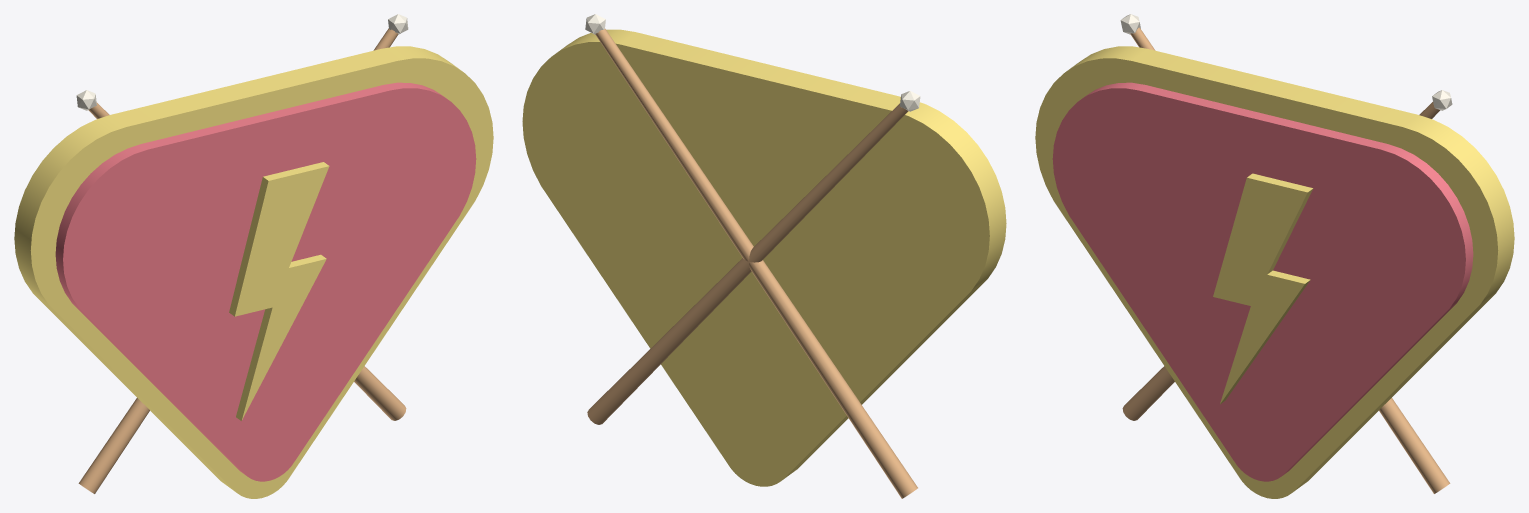
File: emblem.glb
3 renders of one model, left to right at view 1: azimuth 30°, elevation 25°; view 2: azimuth 150°, elevation 25°; view 3: azimuth 330°, elevation 25°, orthographic.
Parts seen in each view (by area): view 1: emblem; view 2: emblem; view 3: emblem.
Boxes of the visible parts, x1,y1,x2,y2 form: emblem: (14,14,493,498); emblem: (522,14,1006,498); emblem: (1035,14,1514,498).
Size of the model in its own units: 3.25 by 2.89 by 0.46.
